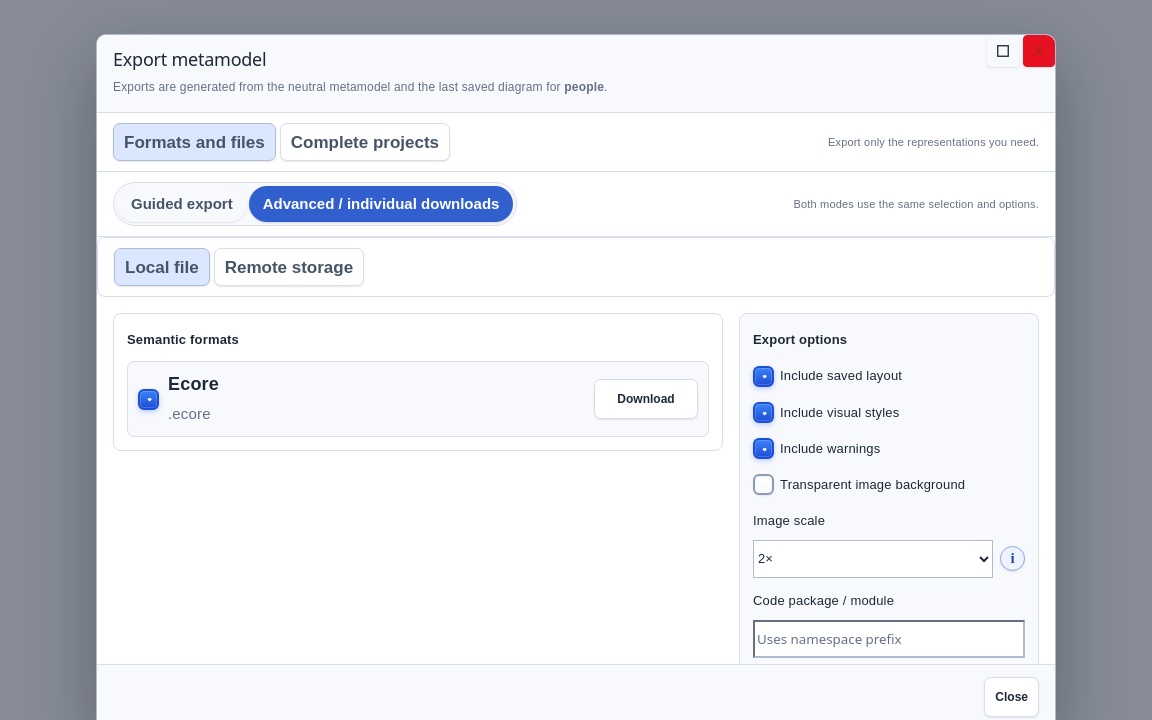
Test case: complete metamodel project exports › blocks complete project generation and tells the user to validate first
This screenshot has width=1152, height=720.
Click the button "Complete projects": (365, 142) [280,123,450,161]
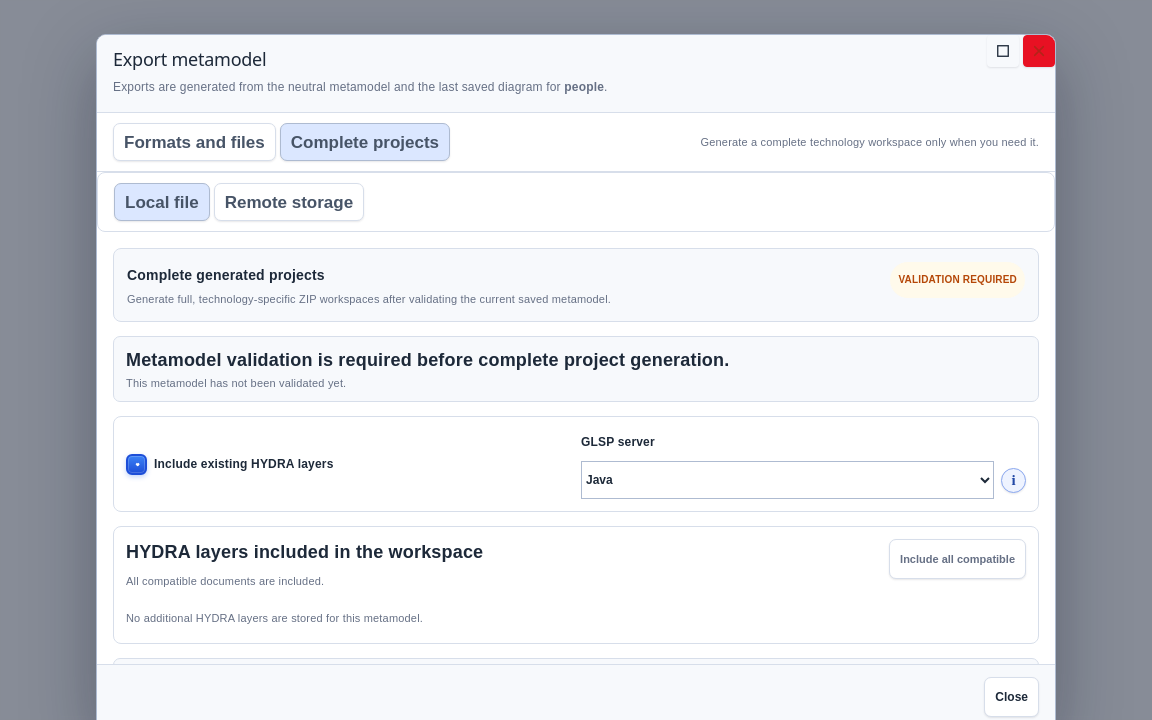
Check: the text "Metamodel validation is required before complete project generation." is shown, box [126,350,729,370]
